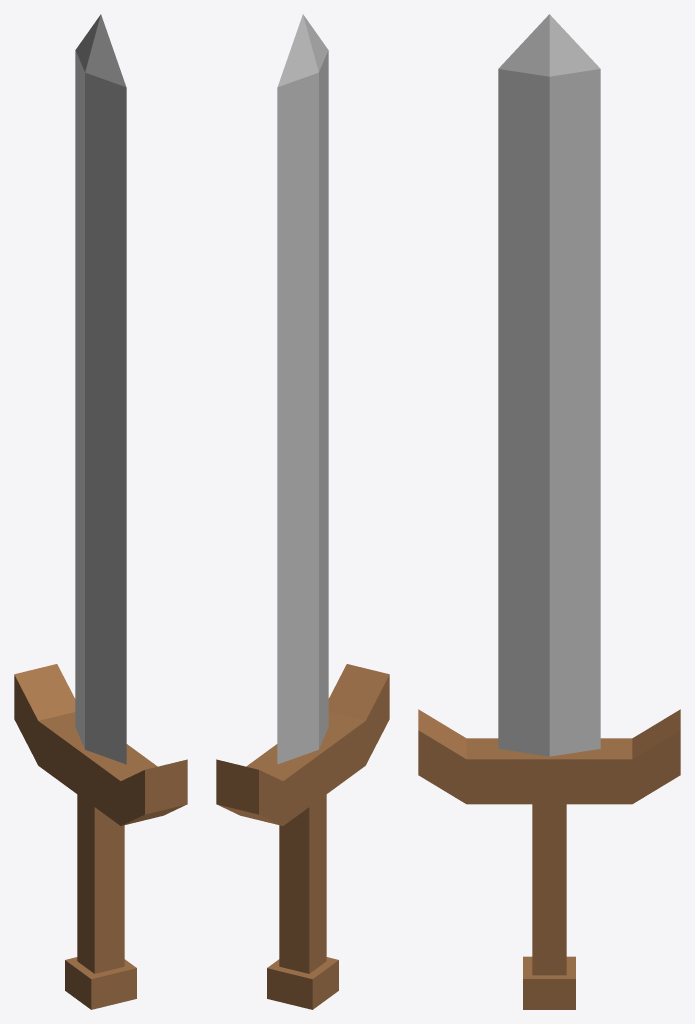
The model's file is sword.gltf.
3 renders of one model, left to right at view 1: azimuth 30°, elevation 25°; view 2: azimuth 150°, elevation 25°; view 3: azimuth 270°, elevation 25°, orthographic.
Parts seen in each view (by area): view 1: Sword; view 2: Sword; view 3: Sword.
Part boxes in pixels (bbox=[...]): Sword: bbox=[14, 14, 187, 1009]; Sword: bbox=[216, 14, 389, 1009]; Sword: bbox=[418, 14, 680, 1009].
Bounding box in the file's own units: 0.032 × 0.6559 × 0.1583.
Materials: 1 (1 with a texture image).
